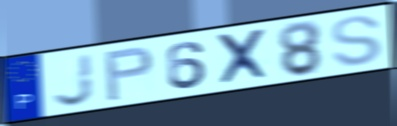6: (165, 40, 209, 90)
8: (276, 19, 325, 78)
J: (50, 51, 97, 108)
P: (103, 45, 156, 104)
S: (328, 14, 385, 68)
X: (213, 26, 273, 88)
